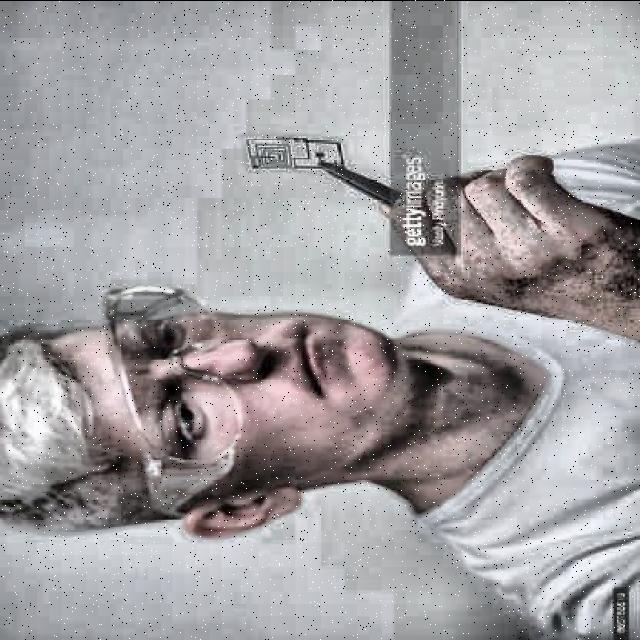goggles_on: (102, 256, 264, 554)
